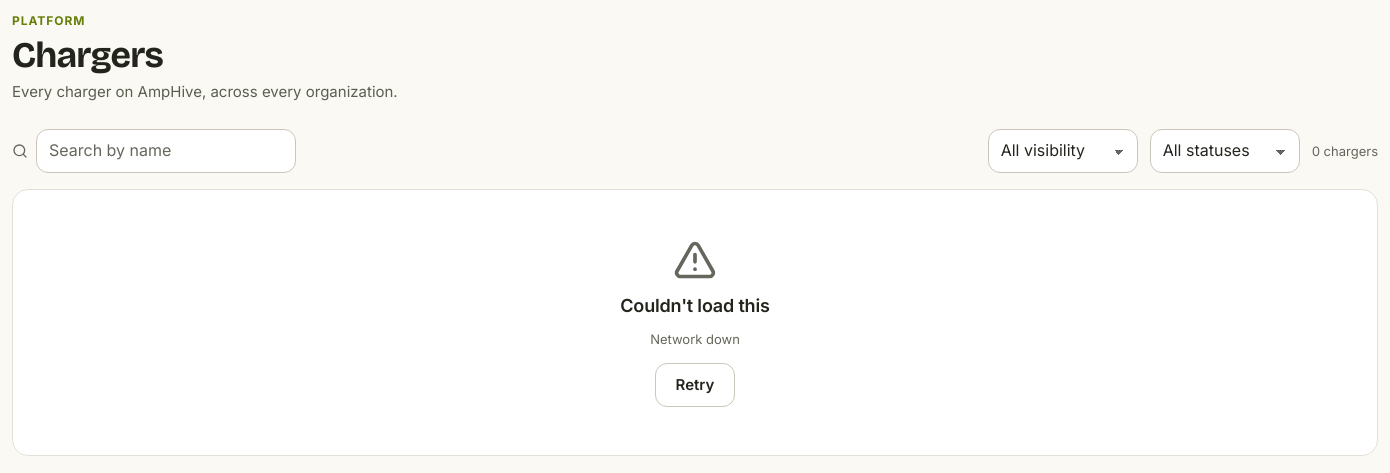
Test case: AdminPlugs › surfaces a retryable ErrorState on fetch failure
Expected: the heading "Couldn't load this" is shown, [620,294,770,317]
What coordinates should you click on to do the following:
click the button "Retry"
I would click on:
 (695, 385)
Its box is [655,363,735,407].
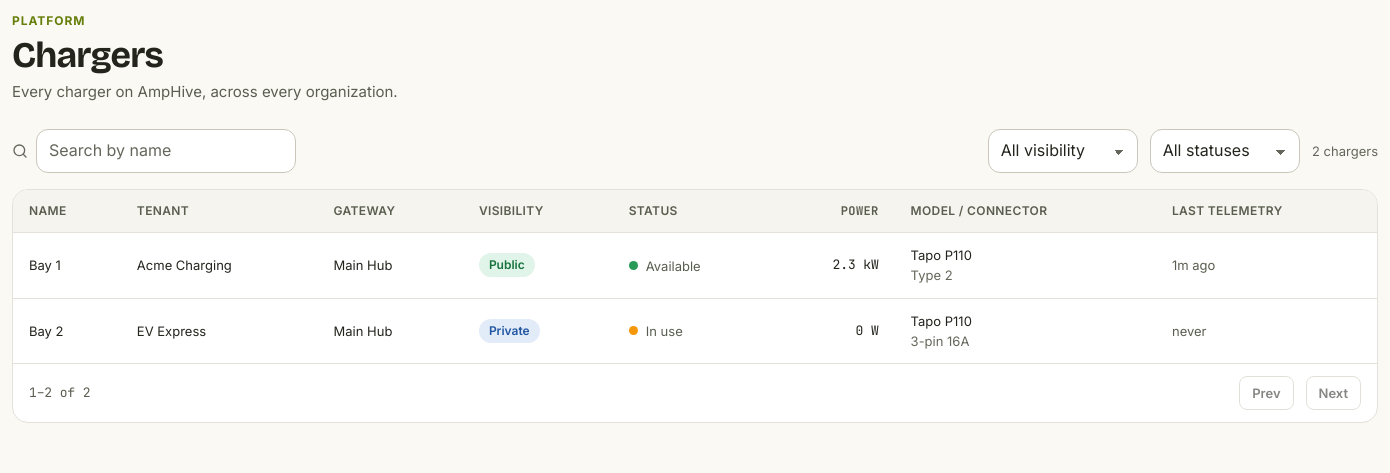
Now the text "Bay 1" is shown, box [13,233,121,298]
